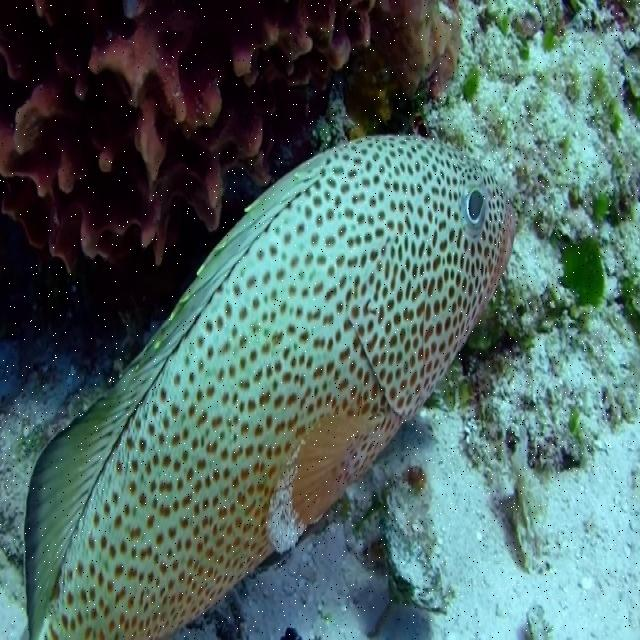fish: (18, 131, 520, 639)
reefs: (0, 1, 437, 271)
